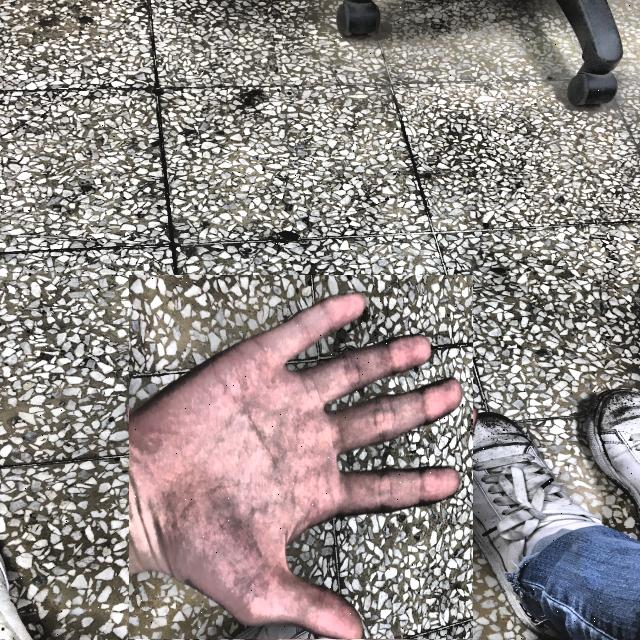not-gloved: (118, 285, 483, 640)
